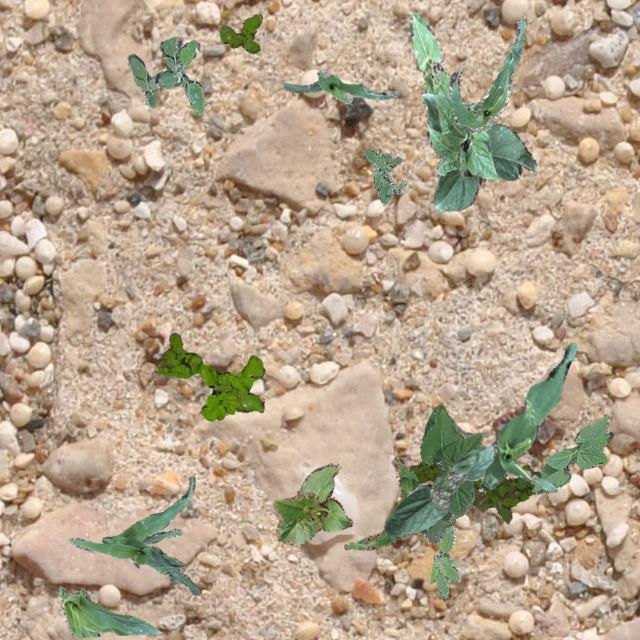crop: (478, 342, 576, 491), (419, 92, 536, 210), (342, 454, 454, 550), (382, 441, 493, 537), (448, 15, 524, 132), (418, 404, 482, 542), (100, 474, 194, 566), (68, 536, 200, 594), (530, 414, 612, 494), (274, 462, 352, 544), (58, 584, 160, 636), (282, 70, 398, 102), (408, 11, 449, 100)
weed: (156, 332, 264, 419), (408, 460, 540, 522), (126, 36, 204, 114), (362, 148, 406, 204), (428, 524, 459, 598), (218, 13, 262, 52)
